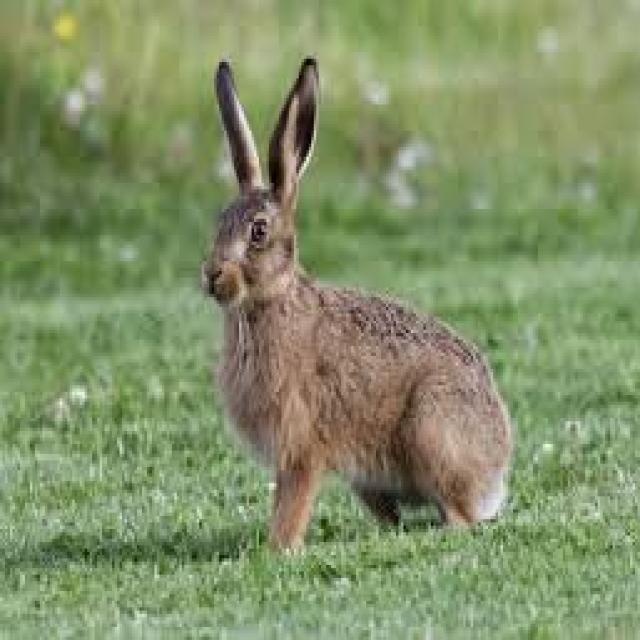Hare: (195, 47, 520, 570)
